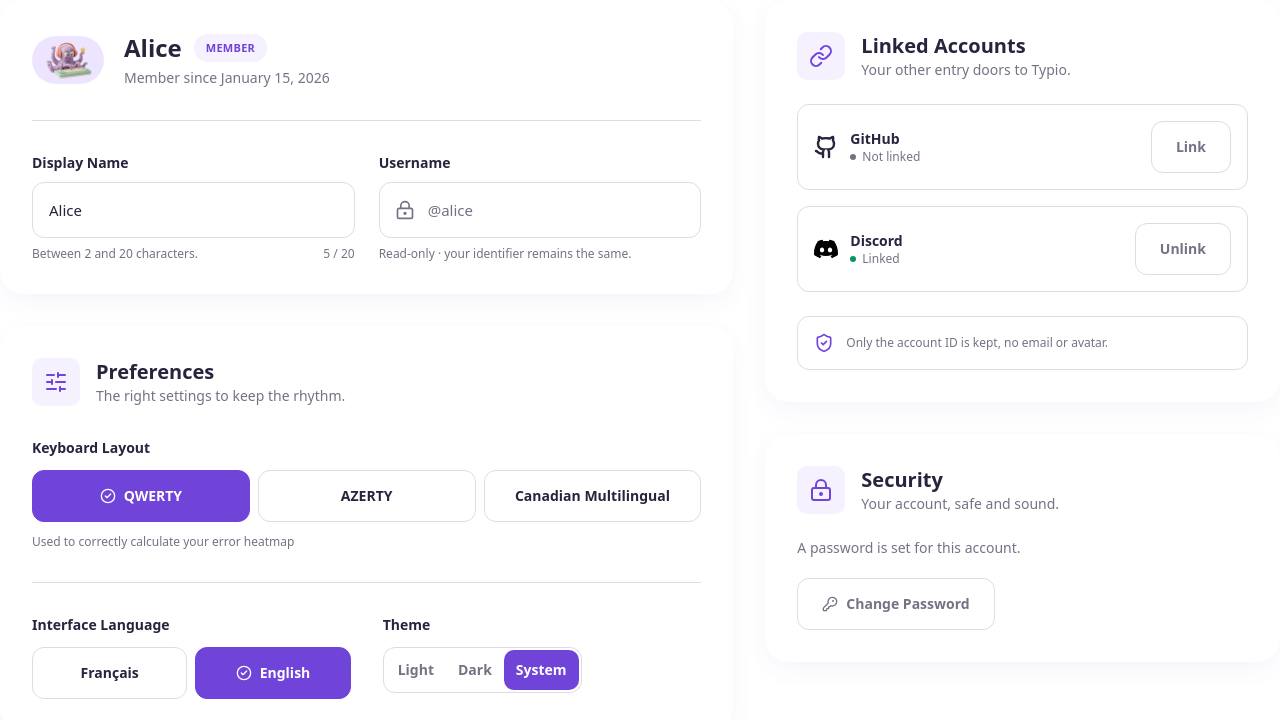
it: ProfileForm (en) › affiche une erreur de session dans une bannière
Replace the text in the field labelled "Display Name" with "Bob": (193, 210) [32,182,355,238]
(page scrolled)
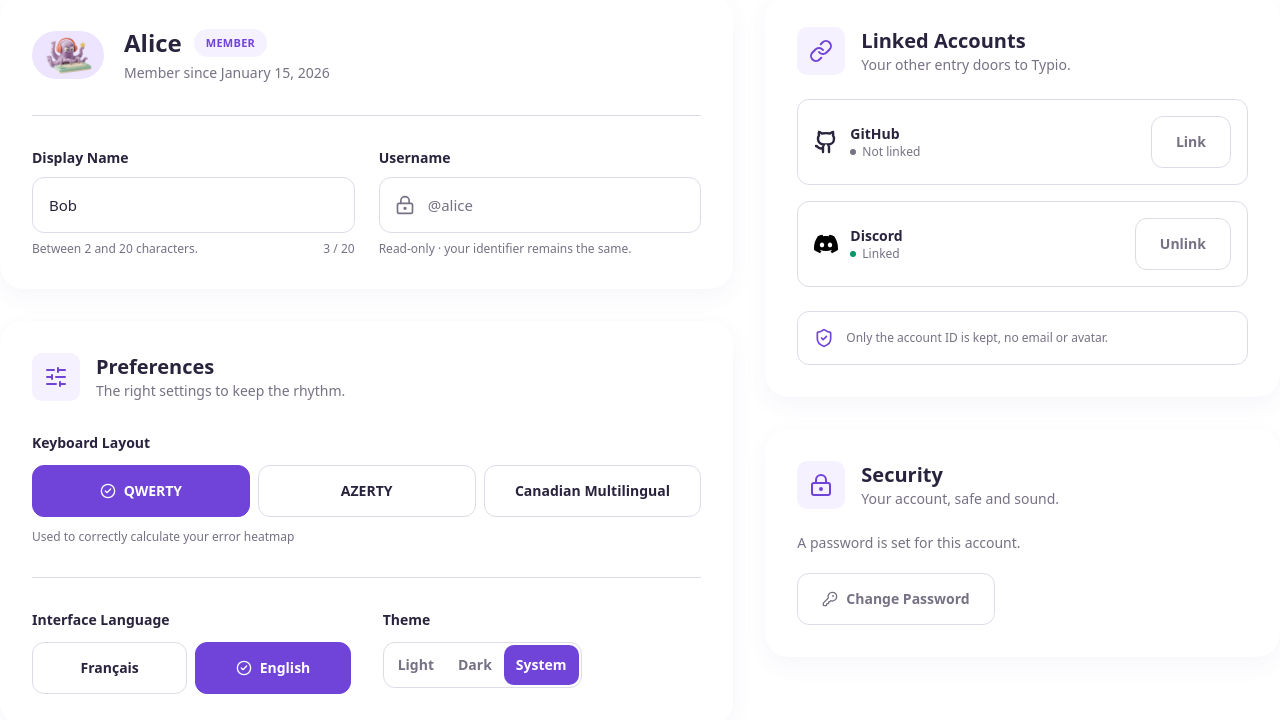
Submit the form "Display Name"
(page scrolled)
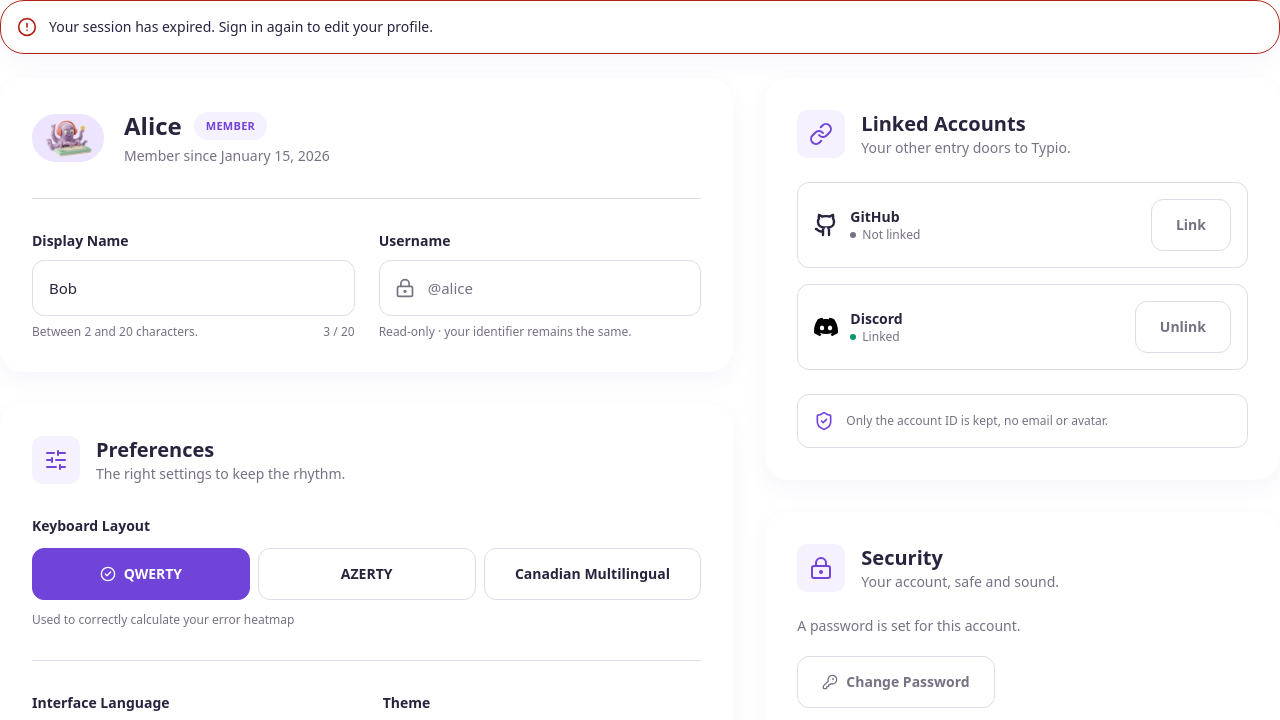
Expected: the message reads "Your session has expired. Sign in again to edit your profile.", [49,17,433,36]
